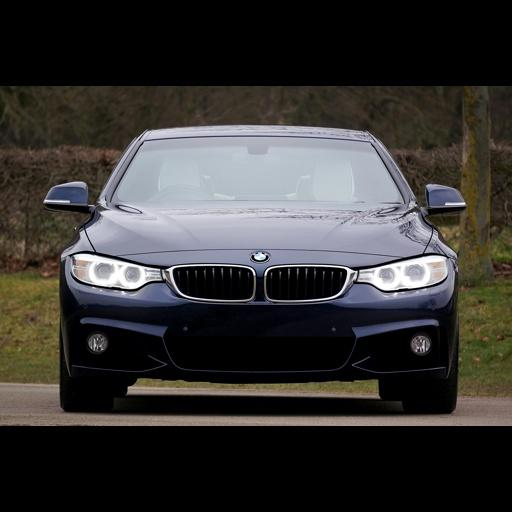sedan: (42, 124, 464, 412)
